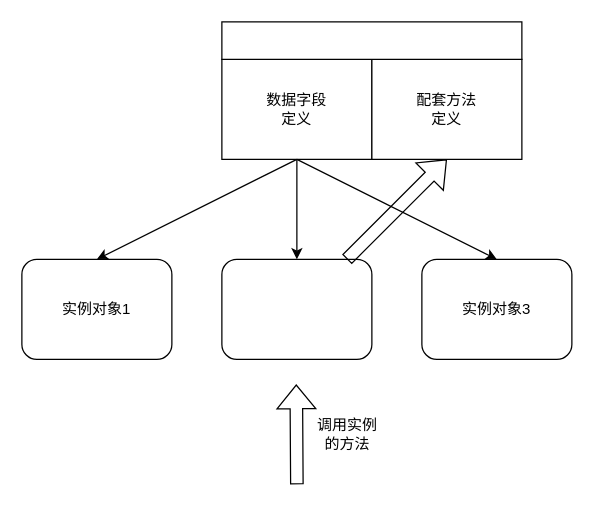
This 594x506 diagram has some shape labels left out. The shapes that lost their labels are listed below. From the top down, each one's centre as x and y in pixels, then its label:
At [371,40]: "类定义".
At [296,308]: "实例对象2".
